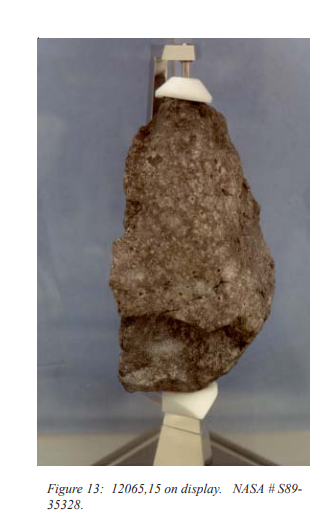Basalt: (108, 90, 285, 390)
